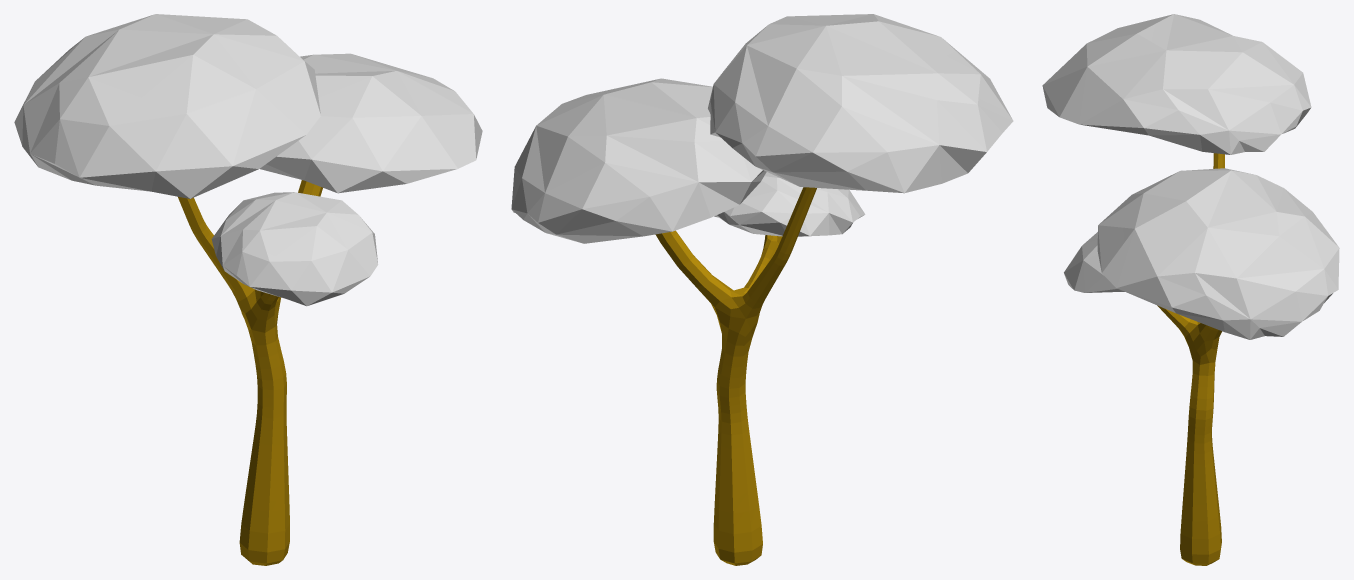
File: tree1.glb
The picture shows the model from 3 angles, left to right: view 1: azimuth 30°, elevation 25°; view 2: azimuth 150°, elevation 25°; view 3: azimuth 270°, elevation 25°; orthographic projection. The views are drawn at different scales.
Parts seen in each view (by area): view 1: Leaf, Trunk; view 2: Leaf, Trunk; view 3: Leaf, Trunk.
Boxes of the visible parts, bbox=[...] form: Leaf: bbox=[14, 14, 482, 306]; Trunk: bbox=[178, 180, 322, 565]; Leaf: bbox=[511, 14, 1013, 243]; Trunk: bbox=[655, 187, 816, 565]; Leaf: bbox=[1042, 14, 1339, 339]; Trunk: bbox=[1157, 153, 1224, 565].
Size of the model in its own units: 3.93 by 4.65 by 2.59.
